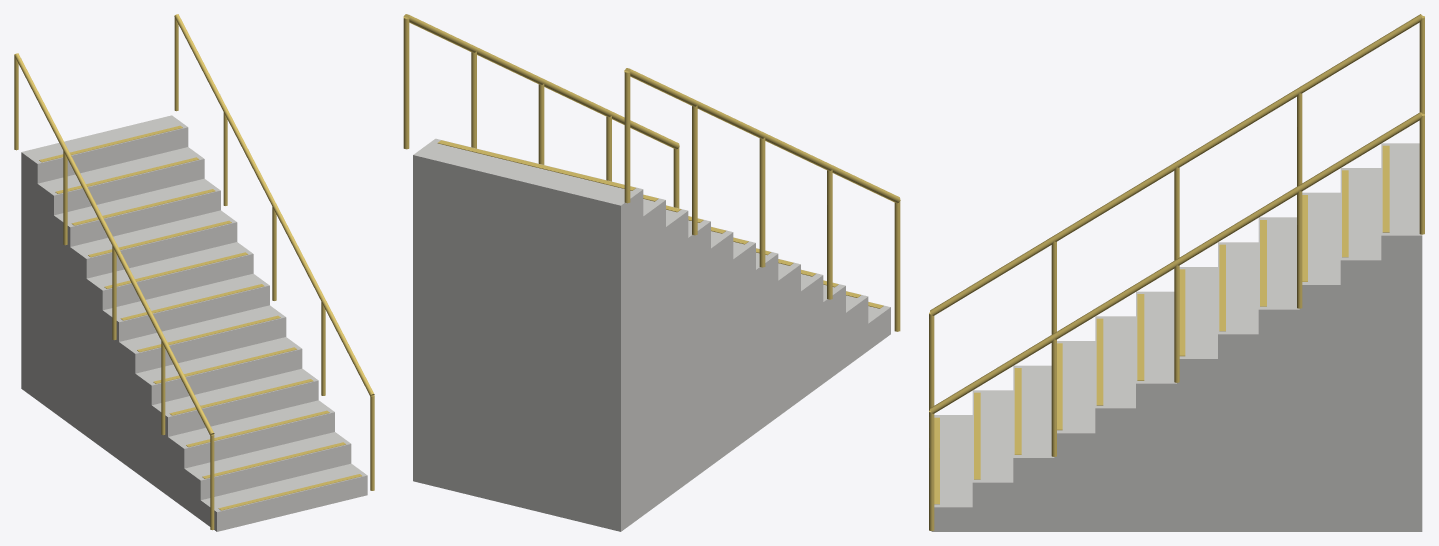
File: stairs_concrete.glb
3 renders of one model, left to right at view 1: azimuth 30°, elevation 25°; view 2: azimuth 150°, elevation 25°; view 3: azimuth 270°, elevation 25°, orthographic. The views are drawn at different scales.
Visible parts, largest first — view 1: stairs_concrete; view 2: stairs_concrete; view 3: stairs_concrete.
Part boxes in pixels (left/top/right/bottom): stairs_concrete: left=14, top=14, right=374, bottom=531; stairs_concrete: left=403, top=14, right=900, bottom=531; stairs_concrete: left=929, top=14, right=1424, bottom=531.
Bounding box in the file's own units: 1.75 × 3.42 × 3.64.
